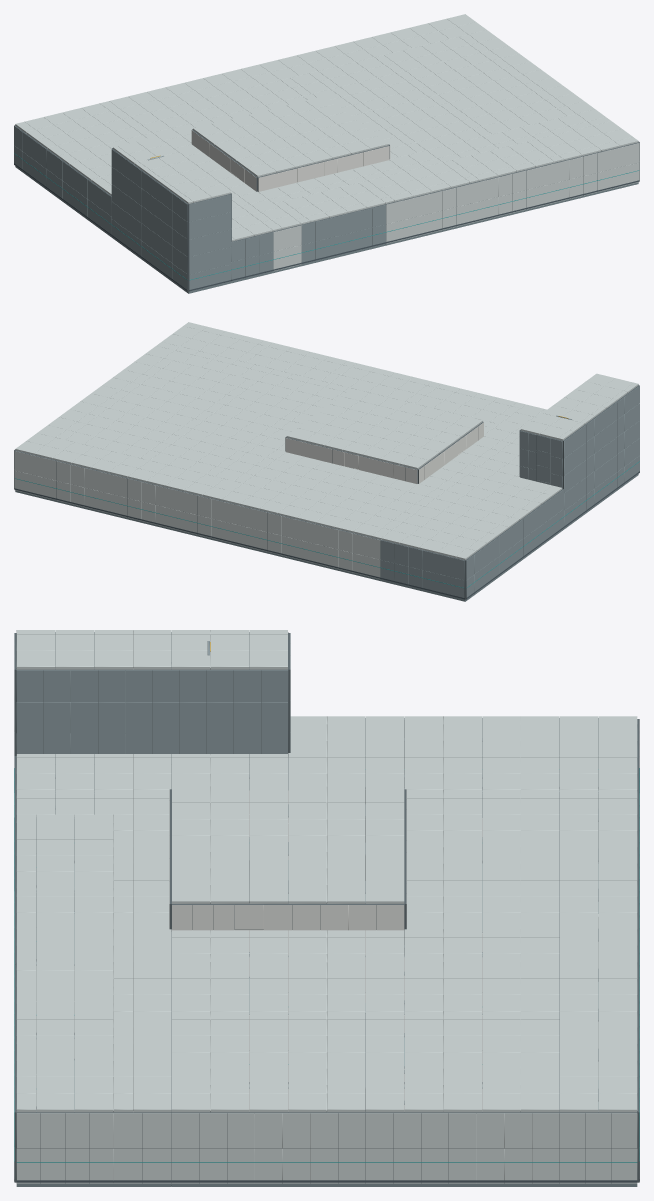
Rendered from B4_Stealth_Architecture.fbx.
The picture shows the model from 3 angles, top to bottom: view 1: azimuth 30°, elevation 25°; view 2: azimuth 150°, elevation 25°; view 3: azimuth 270°, elevation 25°; orthographic projection. The views are drawn at different scales.
Visible parts, largest first — view 1: B4_Architecture_Service_5_3, B4_Ceiling_Ceiling_5_0, B4_Ceiling_Ceiling_1_2, B4_Ceiling_Ceiling_1_1, B4_Ceiling_Ceiling_2_3, B4_Ceiling_Ceiling_1_0, B4_Ceiling_Ceiling_0_3, B4_Ceiling_Ceiling_3_2, B4_Architecture_Panel_1_3, B4_Ceiling_Ceiling_2_0, B4_Ceiling_Ceiling_3_0, B4_Ceiling_Ceiling_4_3 (+27 smaller); view 2: B4_Architecture_Service_5_2, B4_Architecture_Service_5_0, B4_Architecture_Service_5_3, B4_Ceiling_Ceiling_5_0, B4_Ceiling_Ceiling_5_1, B4_Ceiling_Ceiling_1_1, B4_Ceiling_Ceiling_1_2, B4_Ceiling_Ceiling_1_0, B4_Ceiling_Ceiling_3_0, B4_Ceiling_Ceiling_3_1, B4_Ceiling_Ceiling_2_0, B4_Architecture_Panel_1_0 (+28 smaller); view 3: B4_Architecture_Service_5_3, B4_Ceiling_Ceiling_5_3, B4_Ceiling_Ceiling_1_1, B4_Ceiling_Ceiling_1_2, B4_Architecture_Panel_0_2, B4_Ceiling_Ceiling_5_0, B4_Architecture_Panel_0_0, B4_Ceiling_Ceiling_5_1, B4_Ceiling_Ceiling_5_2, B4_Architecture_Panel_0_3, B4_Ceiling_Ceiling_2_3, B4_Ceiling_Ceiling_1_0 (+26 smaller).
Boxes of the visible parts, bbox=[...] form: B4_Architecture_Service_5_3: bbox=[142, 171, 259, 291]; B4_Ceiling_Ceiling_5_0: bbox=[15, 103, 142, 156]; B4_Ceiling_Ceiling_1_2: bbox=[402, 93, 529, 145]; B4_Ceiling_Ceiling_1_1: bbox=[359, 62, 485, 113]; B4_Ceiling_Ceiling_2_3: bbox=[371, 146, 497, 196]; B4_Ceiling_Ceiling_1_0: bbox=[316, 32, 442, 82]; B4_Ceiling_Ceiling_0_3: bbox=[520, 109, 638, 160]; B4_Ceiling_Ceiling_3_2: bbox=[252, 117, 370, 167]; B4_Architecture_Panel_1_3: bbox=[484, 160, 568, 219]; B4_Ceiling_Ceiling_2_0: bbox=[241, 50, 358, 100]; B4_Ceiling_Ceiling_3_0: bbox=[165, 69, 283, 118]; B4_Ceiling_Ceiling_4_3: bbox=[232, 183, 347, 231]; B4_Architecture_Service_5_2: bbox=[520, 419, 594, 533]; B4_Architecture_Service_5_0: bbox=[394, 531, 507, 599]; B4_Architecture_Service_5_3: bbox=[594, 386, 639, 505]; B4_Ceiling_Ceiling_5_0: bbox=[381, 506, 508, 560]; B4_Ceiling_Ceiling_5_1: bbox=[424, 475, 551, 527]; B4_Ceiling_Ceiling_1_1: bbox=[124, 401, 251, 453]; B4_Ceiling_Ceiling_1_2: bbox=[168, 370, 294, 421]; B4_Ceiling_Ceiling_1_0: bbox=[90, 433, 208, 486]; B4_Ceiling_Ceiling_3_0: bbox=[240, 472, 358, 523]; B4_Ceiling_Ceiling_3_1: bbox=[284, 425, 401, 490]; B4_Ceiling_Ceiling_2_0: bbox=[165, 454, 283, 504]; B4_Architecture_Panel_1_0: bbox=[85, 468, 169, 527]; B4_Architecture_Service_5_3: bbox=[14, 633, 179, 791]; B4_Ceiling_Ceiling_5_3: bbox=[16, 630, 171, 789]; B4_Ceiling_Ceiling_1_1: bbox=[327, 978, 481, 1052]; B4_Ceiling_Ceiling_1_2: bbox=[172, 978, 326, 1052]; B4_Architecture_Panel_0_2: bbox=[172, 1113, 337, 1183]; B4_Ceiling_Ceiling_5_0: bbox=[482, 716, 637, 789]; B4_Architecture_Panel_0_0: bbox=[476, 1051, 639, 1183]; B4_Ceiling_Ceiling_5_1: bbox=[327, 716, 481, 789]; B4_Ceiling_Ceiling_5_2: bbox=[172, 630, 326, 786]; B4_Architecture_Panel_0_3: bbox=[14, 1051, 171, 1183]; B4_Ceiling_Ceiling_2_3: bbox=[16, 913, 171, 986]; B4_Ceiling_Ceiling_1_0: bbox=[482, 978, 637, 1052].
Size of the model in its own units: 4828 by 941 by 3228.
